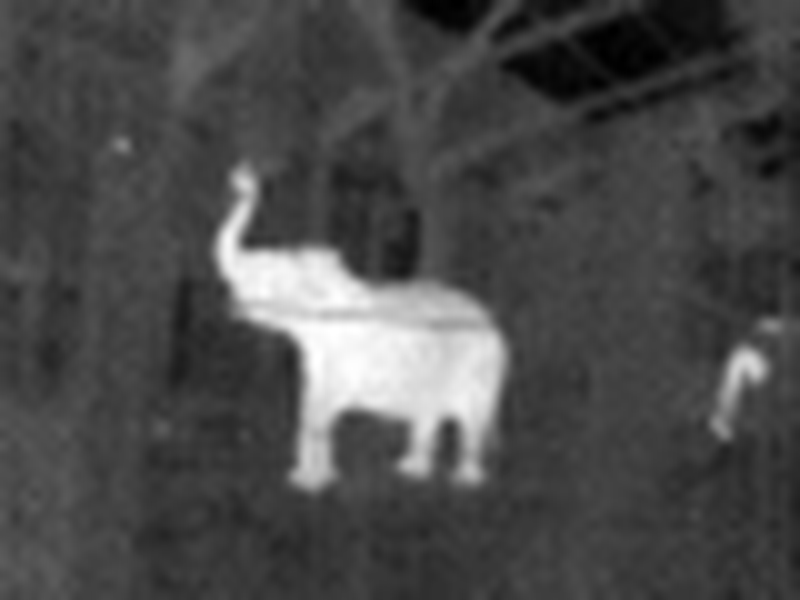elephant: (208, 157, 515, 493)
